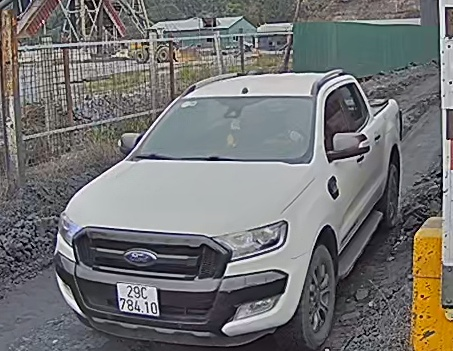vehicle plate: (112, 279, 160, 319)
